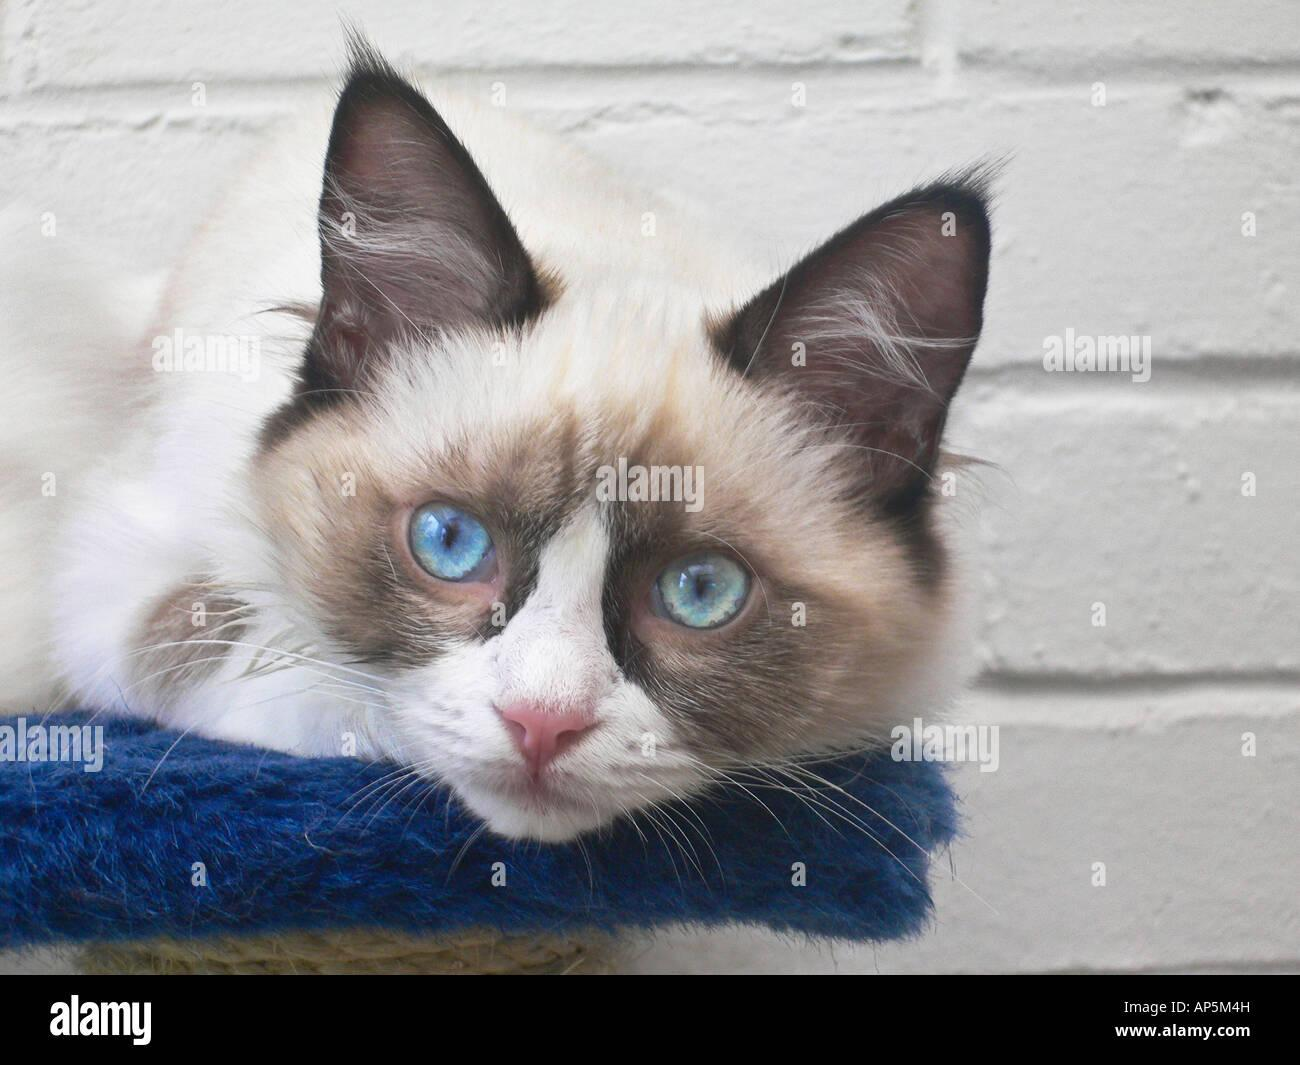ragdoll: (253, 38, 1004, 876)
